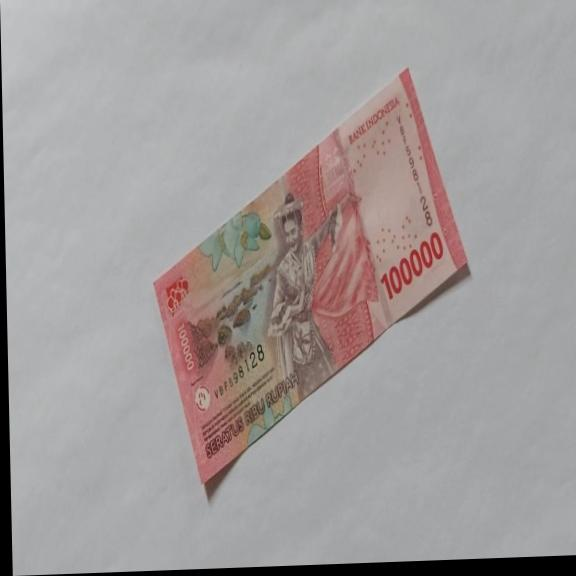Kertas: (378, 229, 444, 302)
